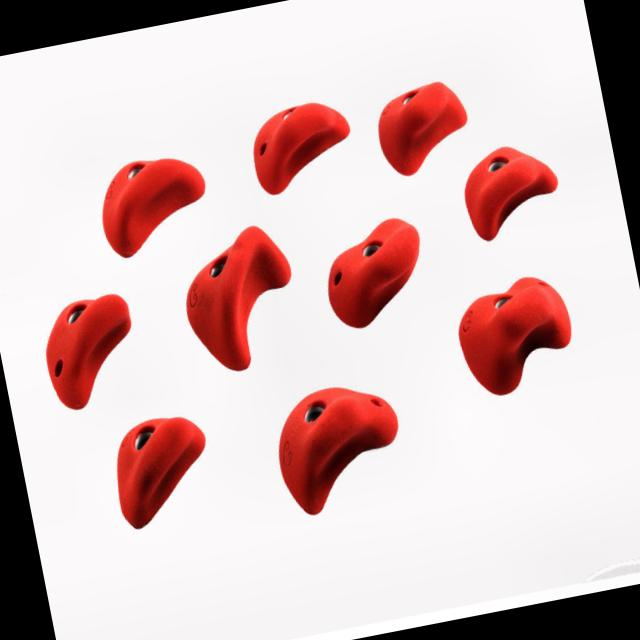Hold: (260, 374, 419, 524), (172, 218, 308, 381), (448, 269, 584, 402), (33, 283, 147, 418), (102, 410, 224, 533), (316, 210, 434, 334), (91, 147, 218, 260), (452, 130, 566, 246), (245, 90, 362, 198), (370, 76, 479, 182)
